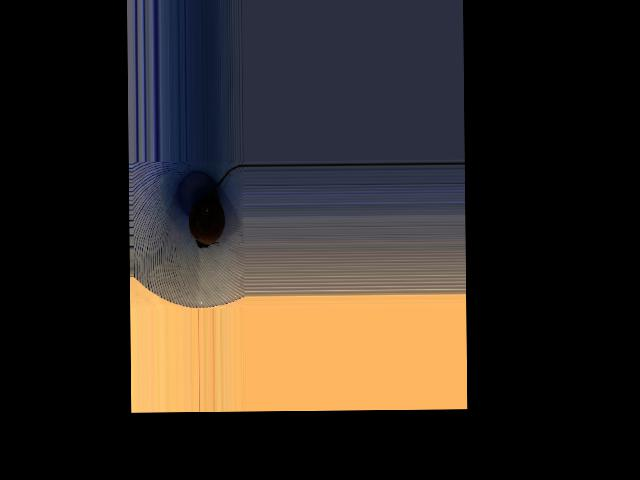beet: (188, 165, 245, 248)
